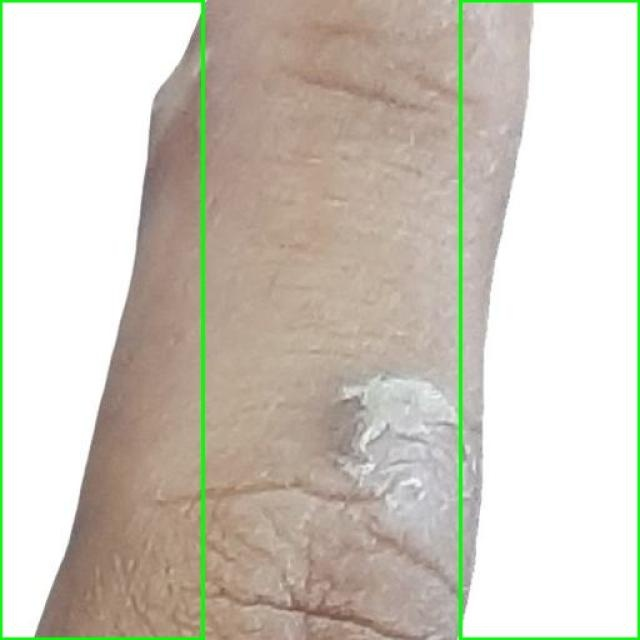Scabies: (0, 0, 202, 639), (460, 0, 639, 639)
